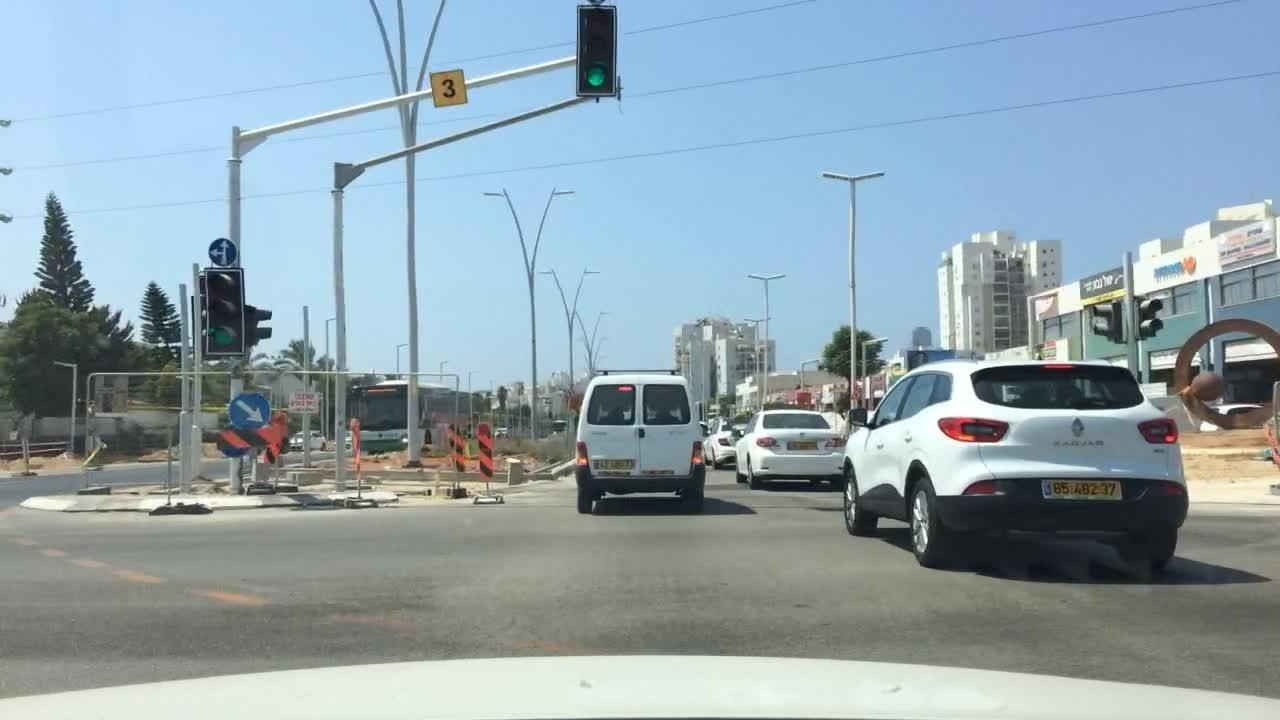Renault: (1069, 413, 1087, 444)
